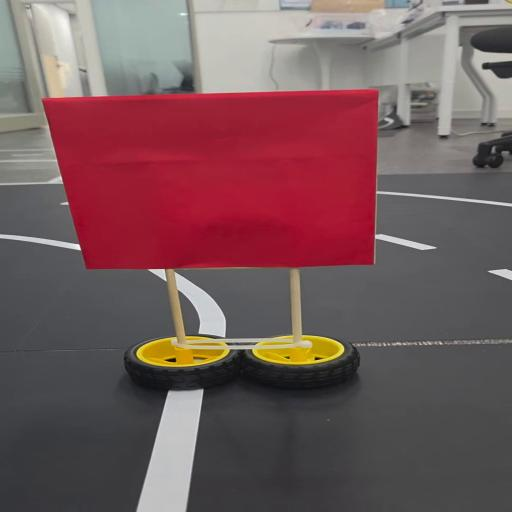Sign_A: (28, 86, 410, 396)
